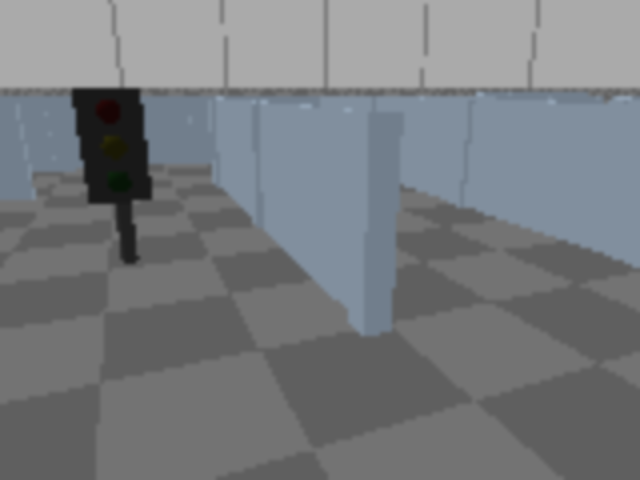traffic_light: (69, 77, 160, 274)
